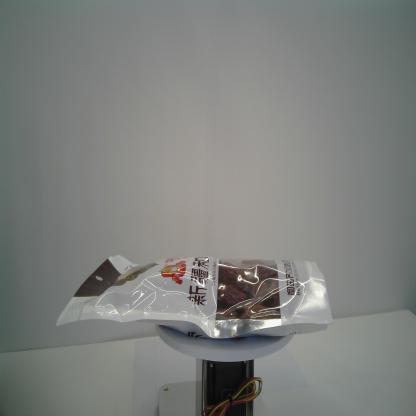Dried Food: (55, 252, 334, 340)
